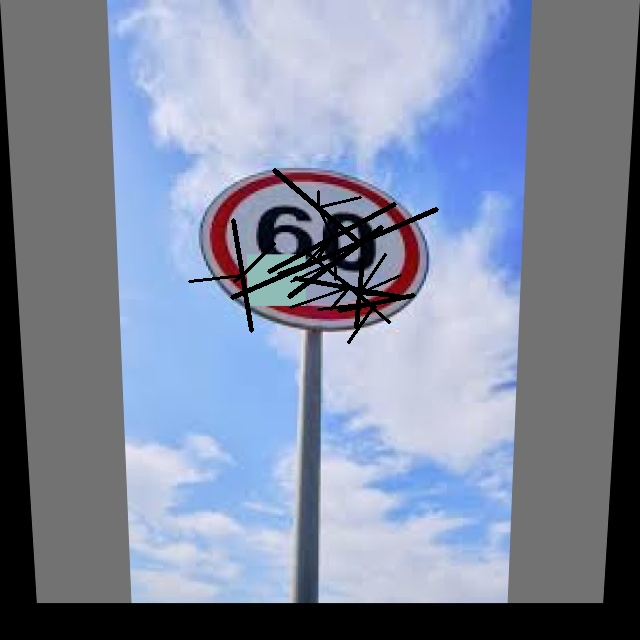Speed_Limit_60: (201, 162, 441, 330)
